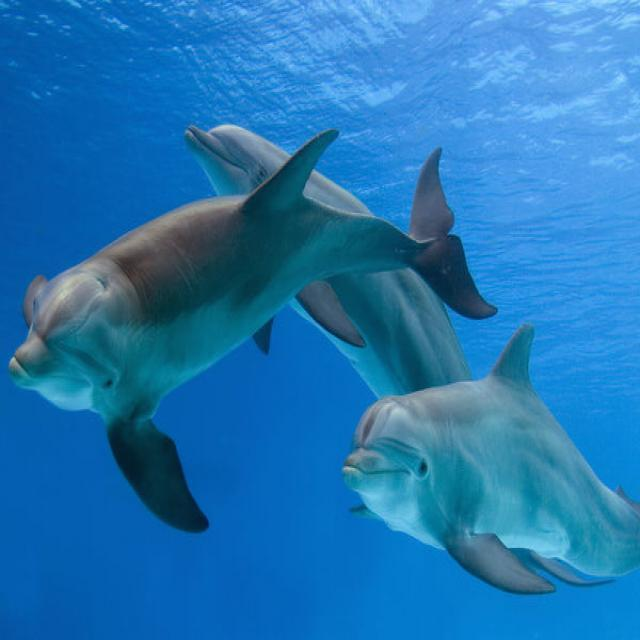dolphin: (16, 164, 534, 413), (321, 354, 640, 600)
